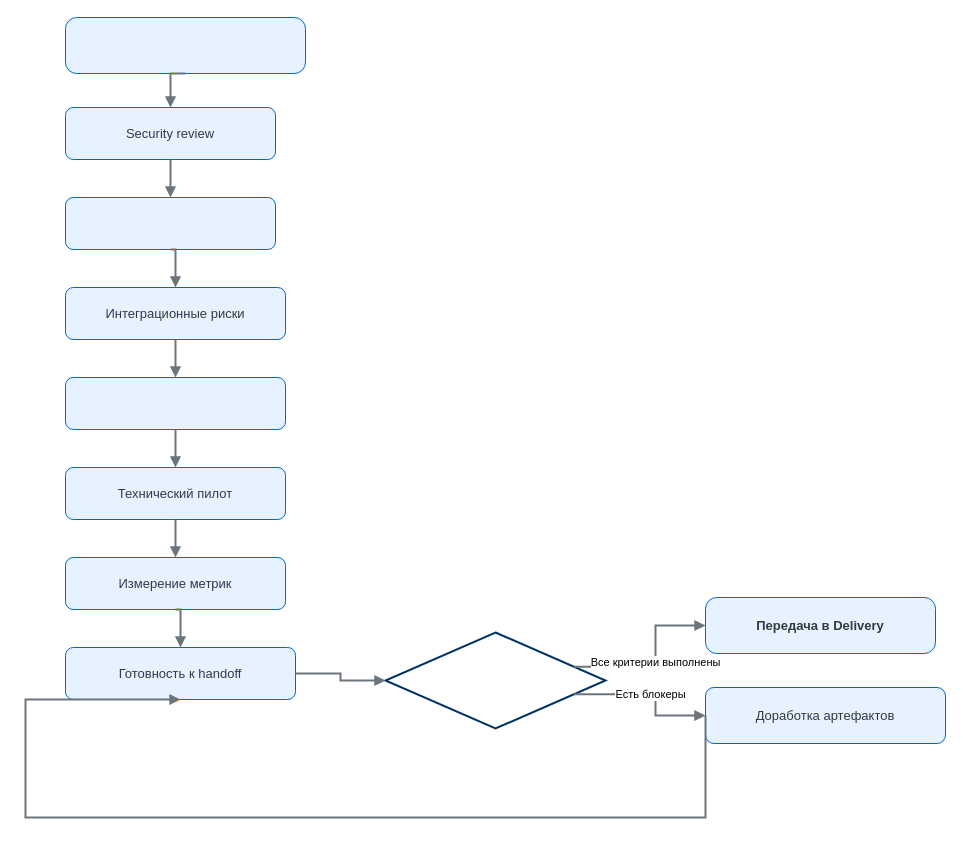
Image size: 963x844. Some labels were removed from this diagram. Here are the shapes that lost their labels. From the top down, the centre of each, then its label:
At pixel 185 45: "Старт процесса Delivery".
At pixel 170 223: "Compliance check".
At pixel 175 403: "Нагрузочные тесты".
At pixel 495 680: "Чек-лист приёмки".
